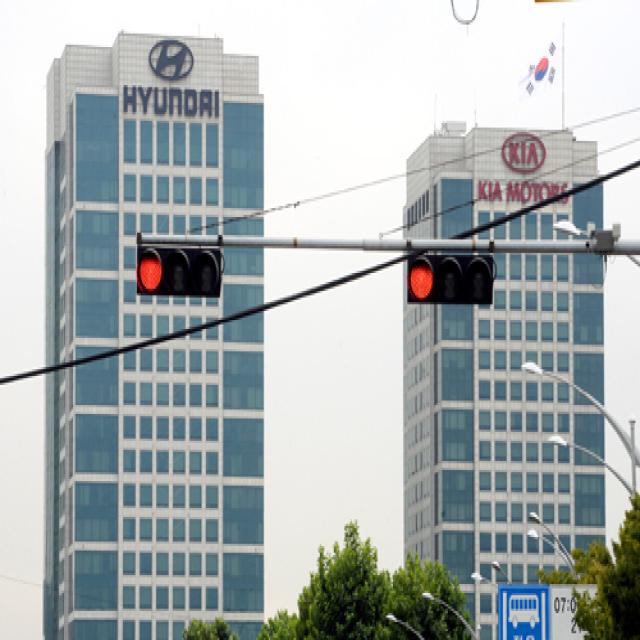red_light: (403, 231, 502, 321), (130, 219, 228, 308)
